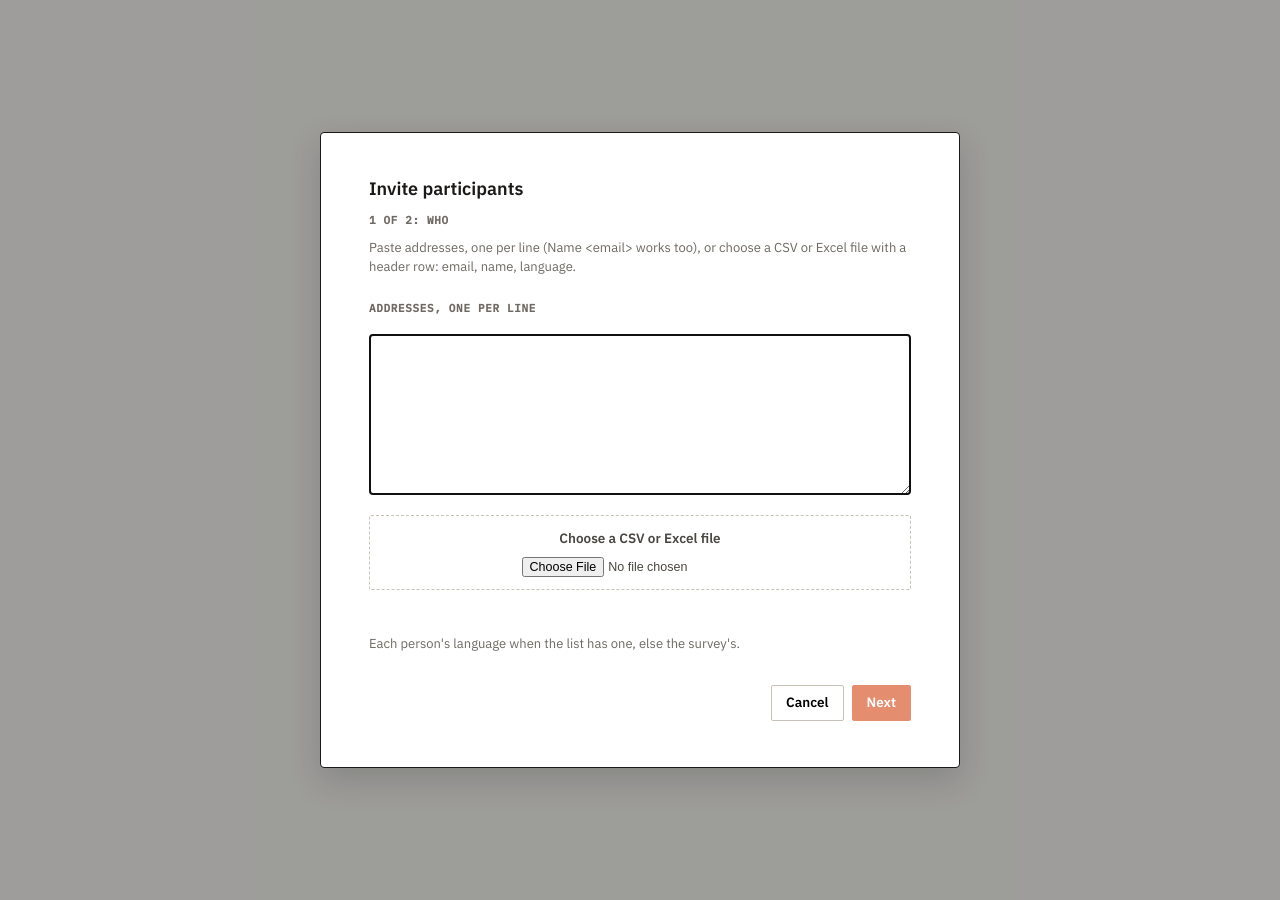
Invite participants (AWK-7, W12 C): two steps › sends later when a time is chosen
Type "anna@acme.at" into the text box labelled "Addresses, one per line". click: (640, 415)
box: [369,334,911,496]
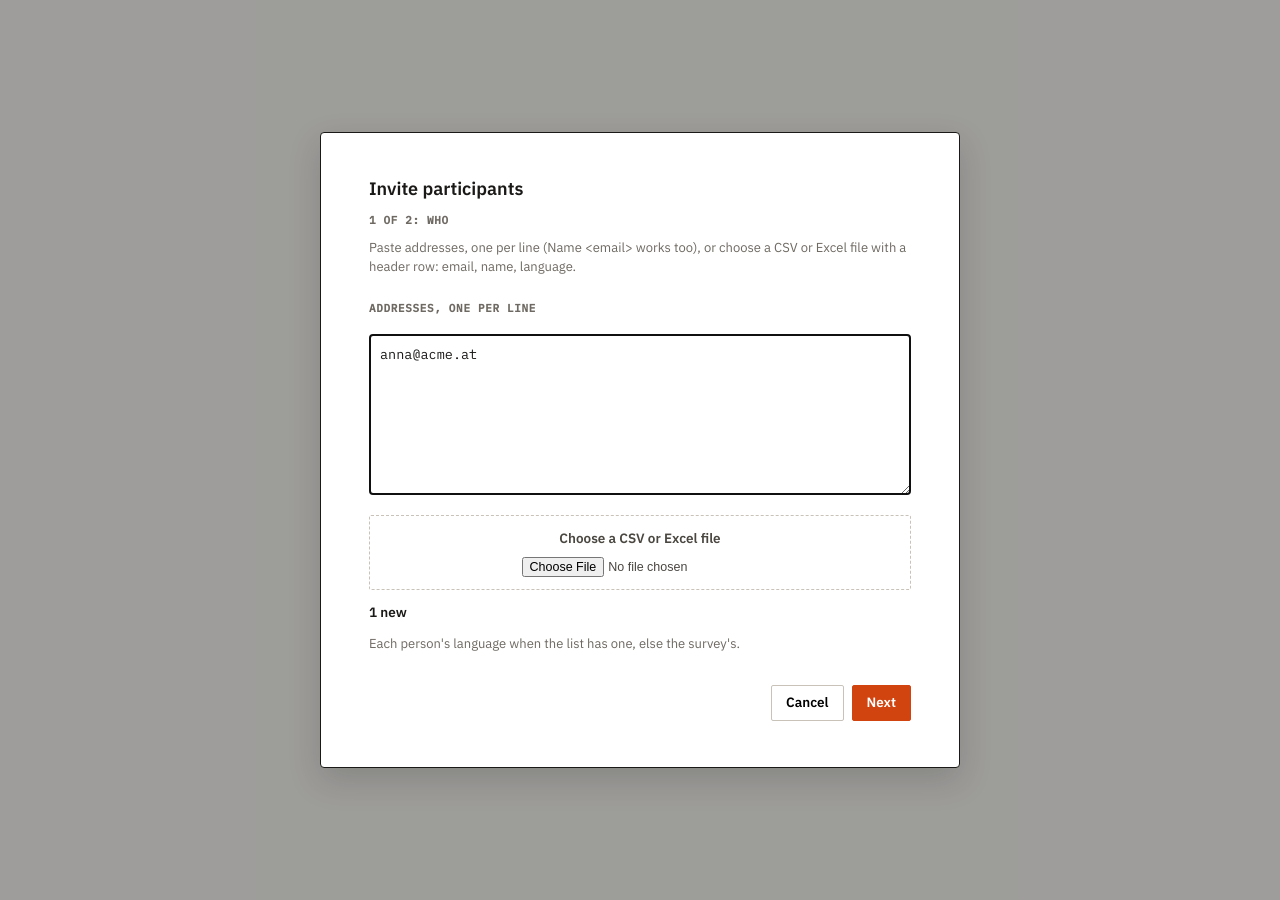
Click the button "Next". click: (881, 703)
box: [852,685,911,721]
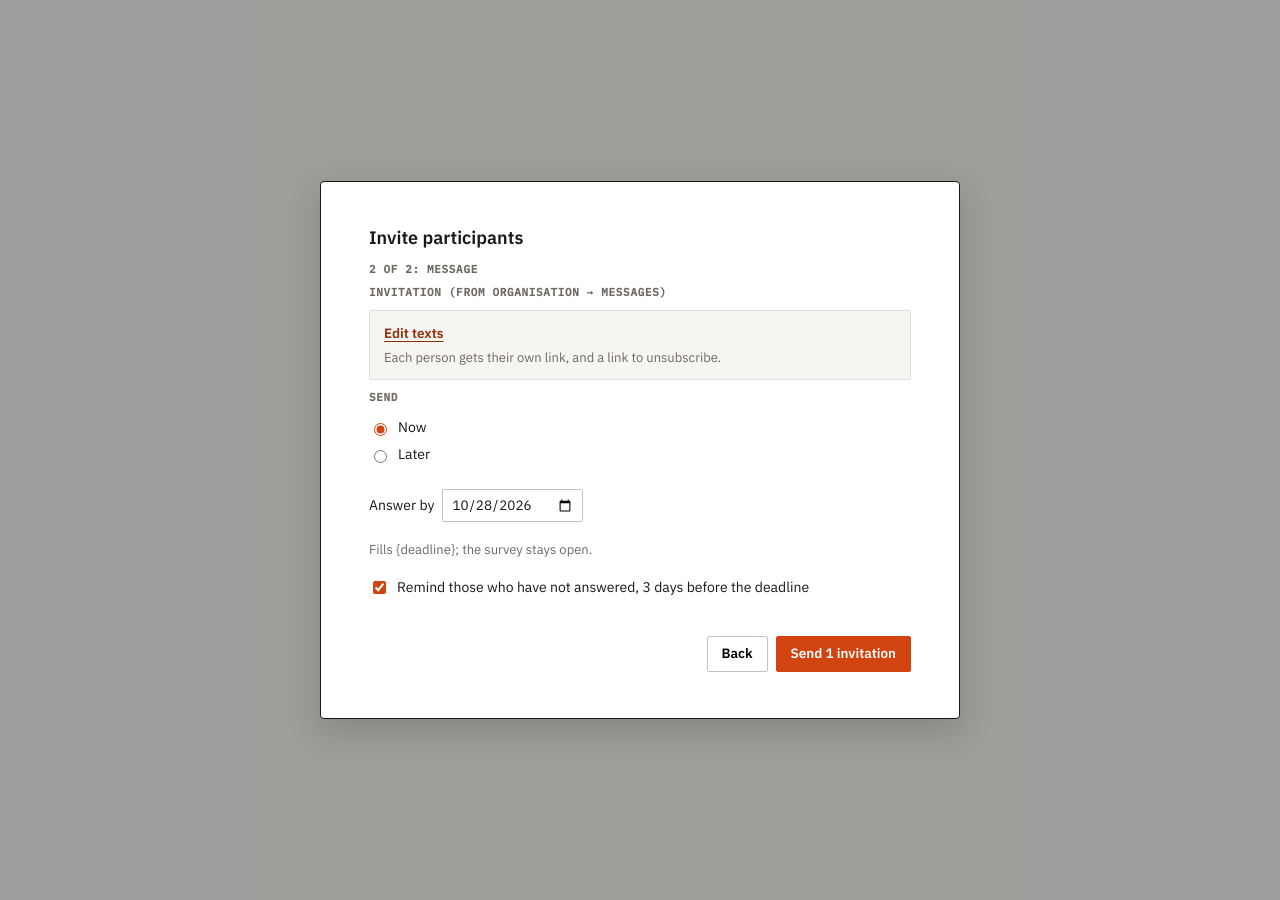
Click the radio button labelled "Later". click: (380, 456)
box: [374,450,387,463]
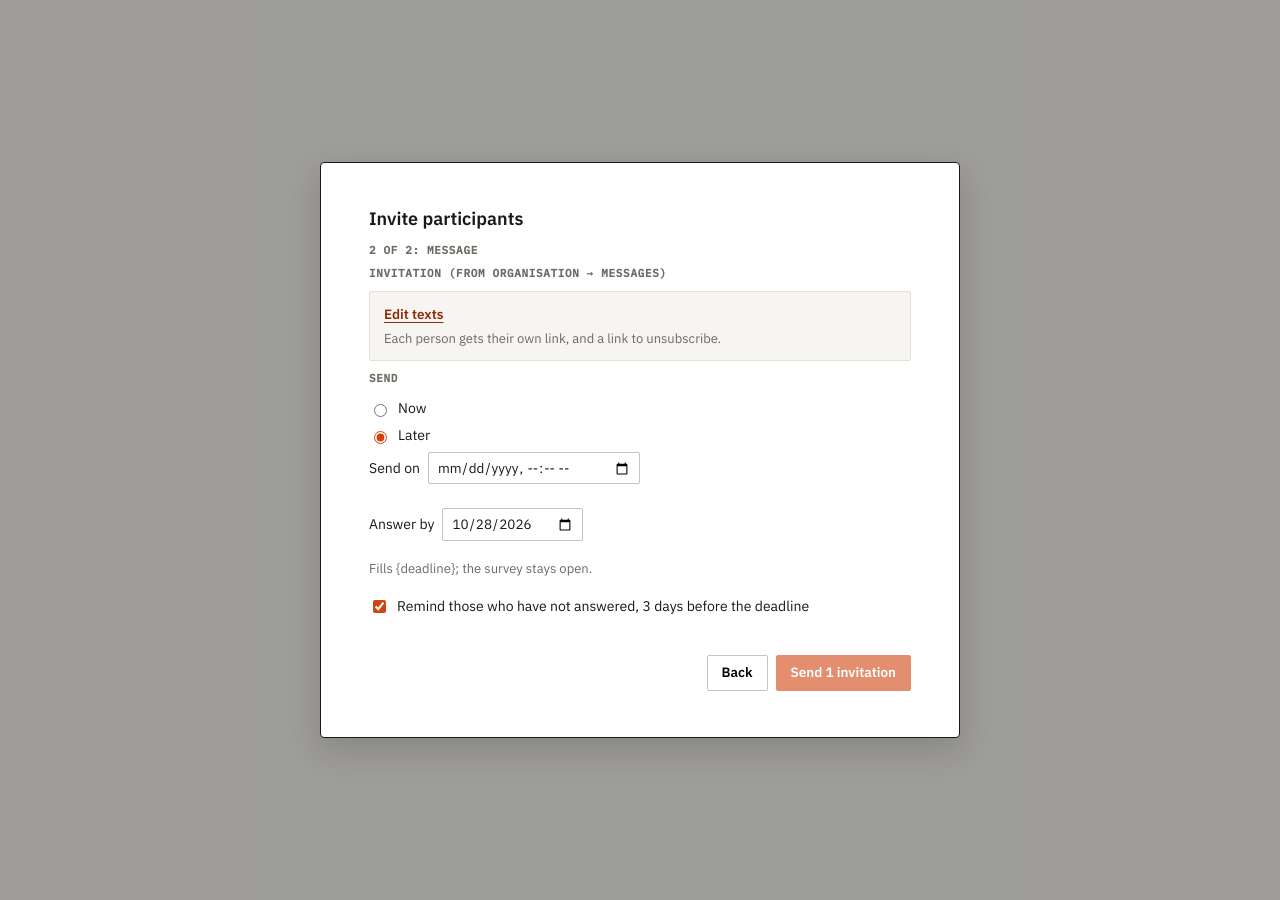
Type "2026-10-21T09:00" into the field labelled "Send on". click: (534, 468)
box: [428,452,640,484]
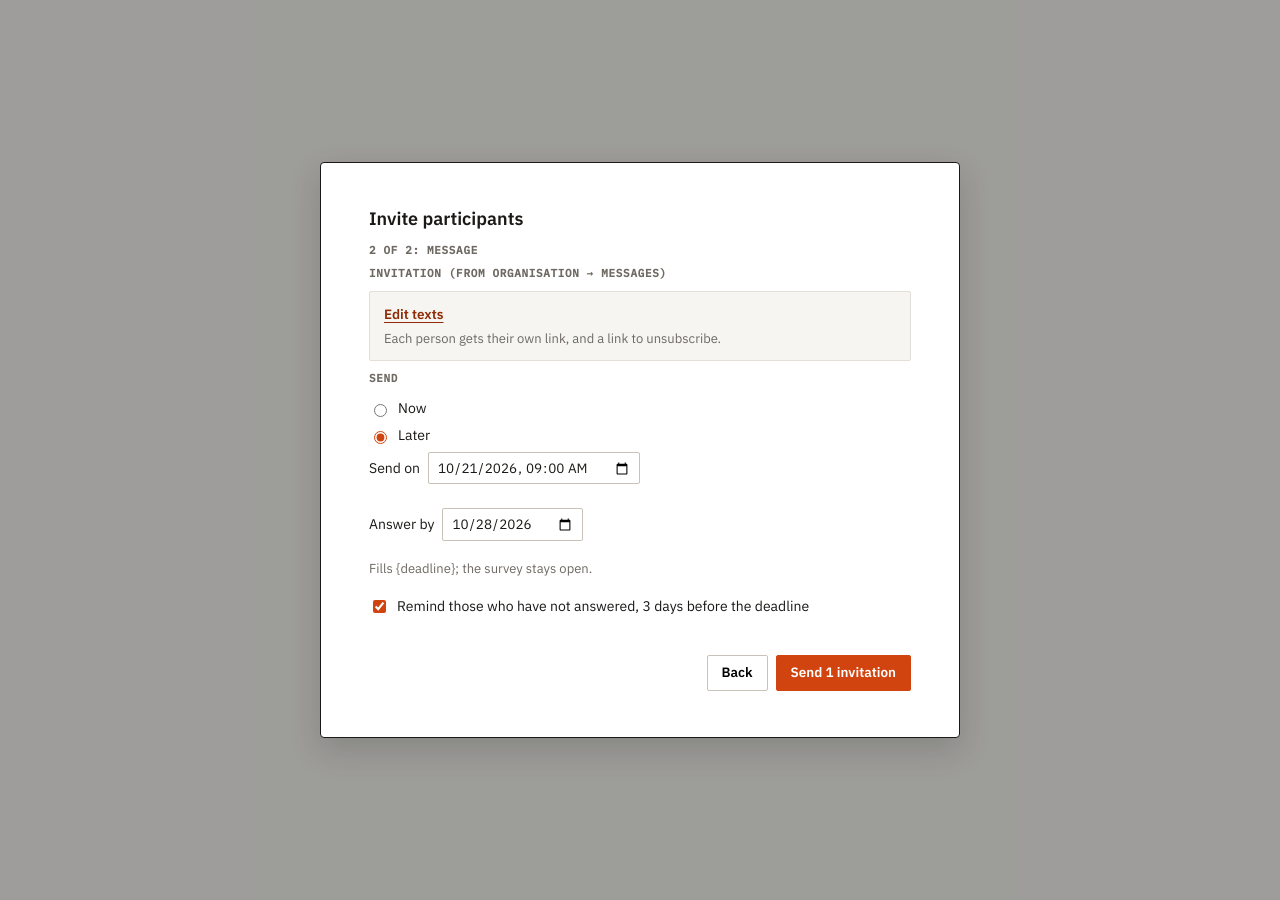
Click the button "Send 1 invitation". click: (843, 673)
box: [776,655,911,691]
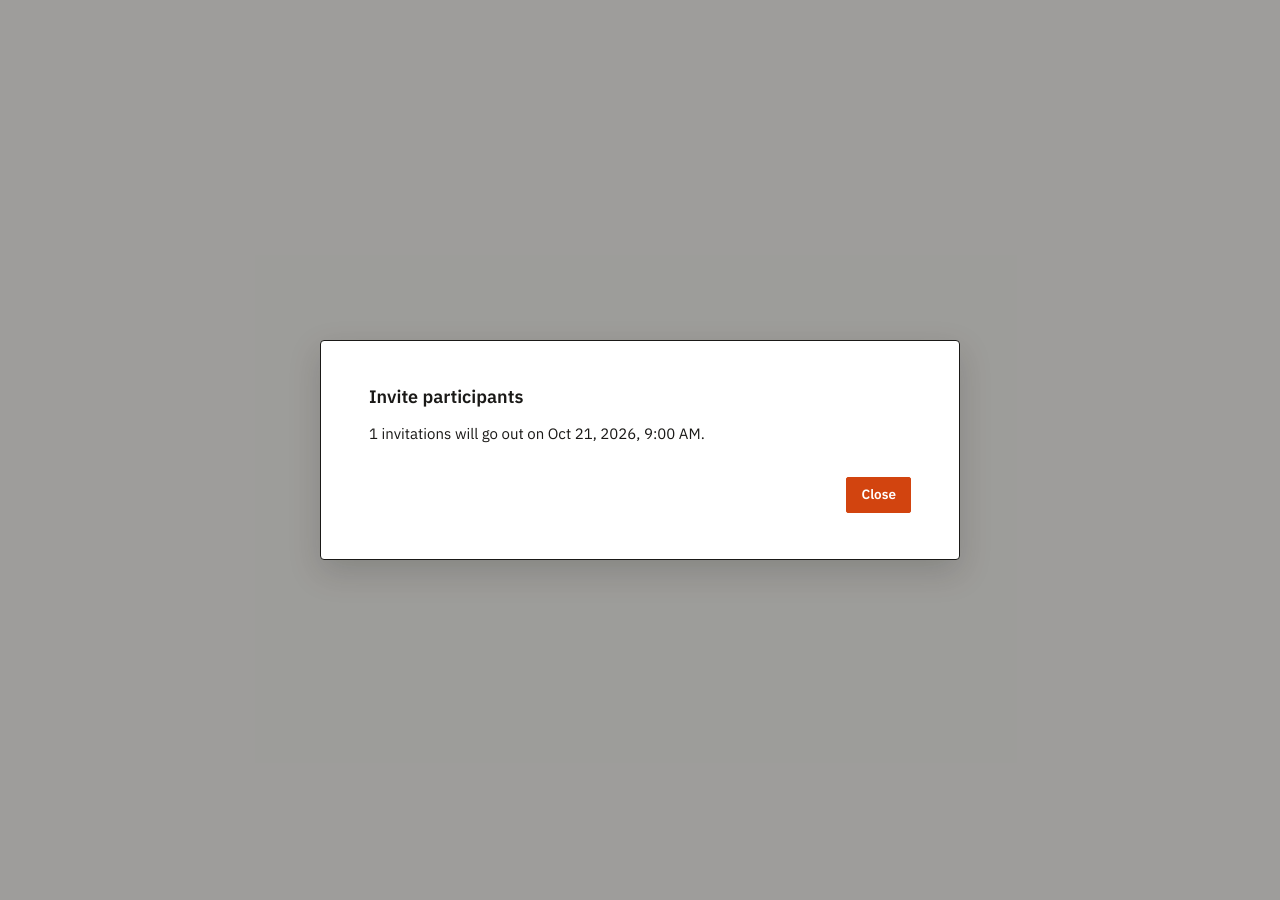
Check: the message "1 invitations will go out on Oct 21, 2026, 9:00 AM." is shown, box [369,424,705,443]
